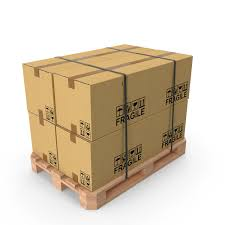box: (91, 95, 194, 196), (90, 53, 193, 143), (52, 72, 91, 145), (55, 126, 92, 194), (20, 62, 55, 127), (26, 113, 58, 174)
pallet: (28, 136, 188, 211)
